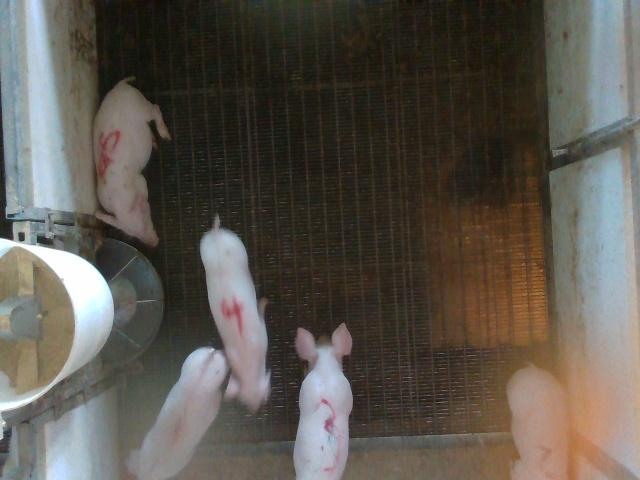pig-1: (126, 348, 228, 479)
pig-3: (294, 324, 352, 478)
pig-4: (200, 216, 270, 411)
pig-5: (95, 76, 170, 246)
